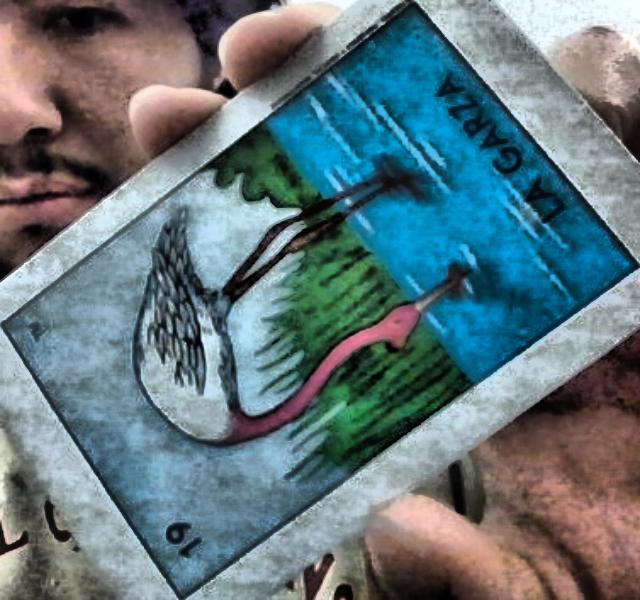El Garza: (8, 6, 638, 593)
